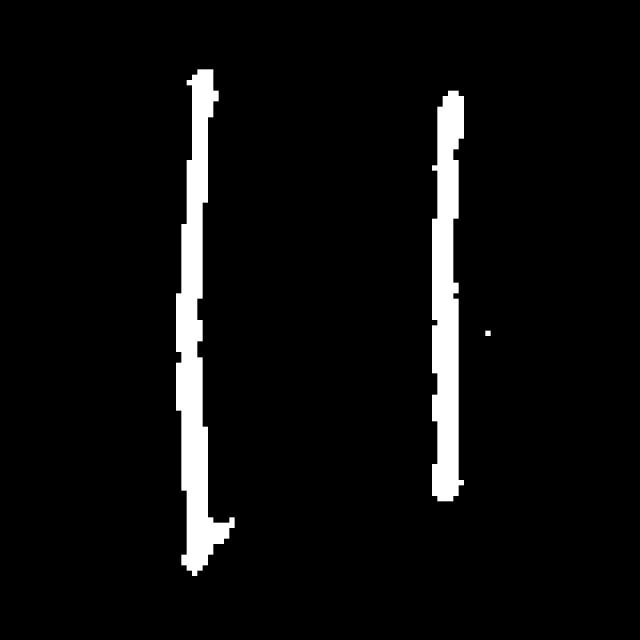capacitor: (167, 49, 485, 588)
